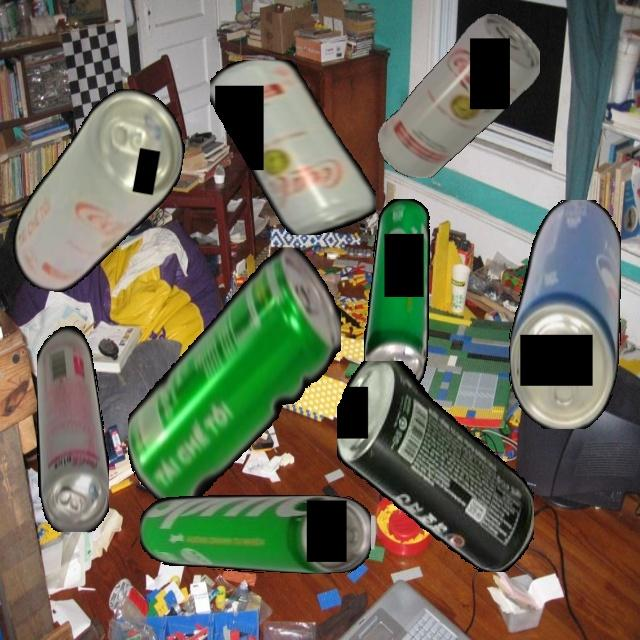debris: (127, 247, 341, 507), (6, 74, 193, 310), (336, 360, 534, 572), (210, 59, 376, 235), (377, 13, 540, 178), (508, 199, 621, 429), (139, 495, 371, 574), (36, 321, 109, 532), (363, 198, 431, 392)
